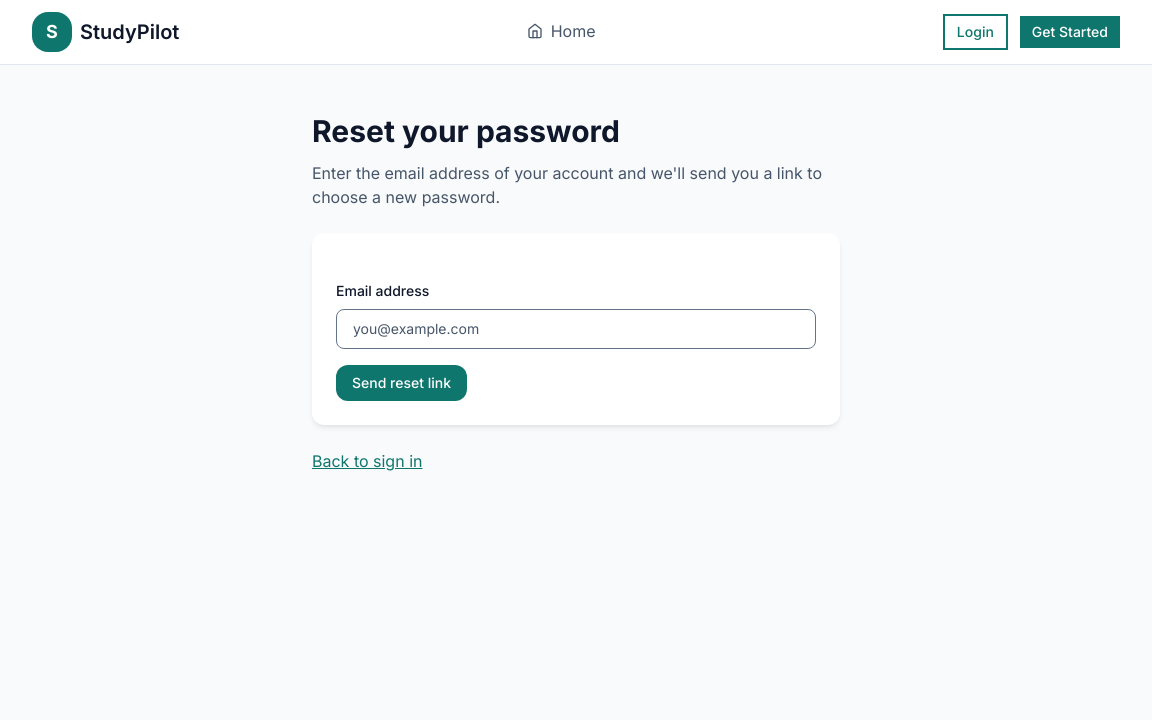
Scenario: ForgotPasswordPage › renders a server 400 field error as an actionable alert and keeps the form
Type "ada@example.com" into the field labelled "Email address" at (576,329), box [336,309,816,349]
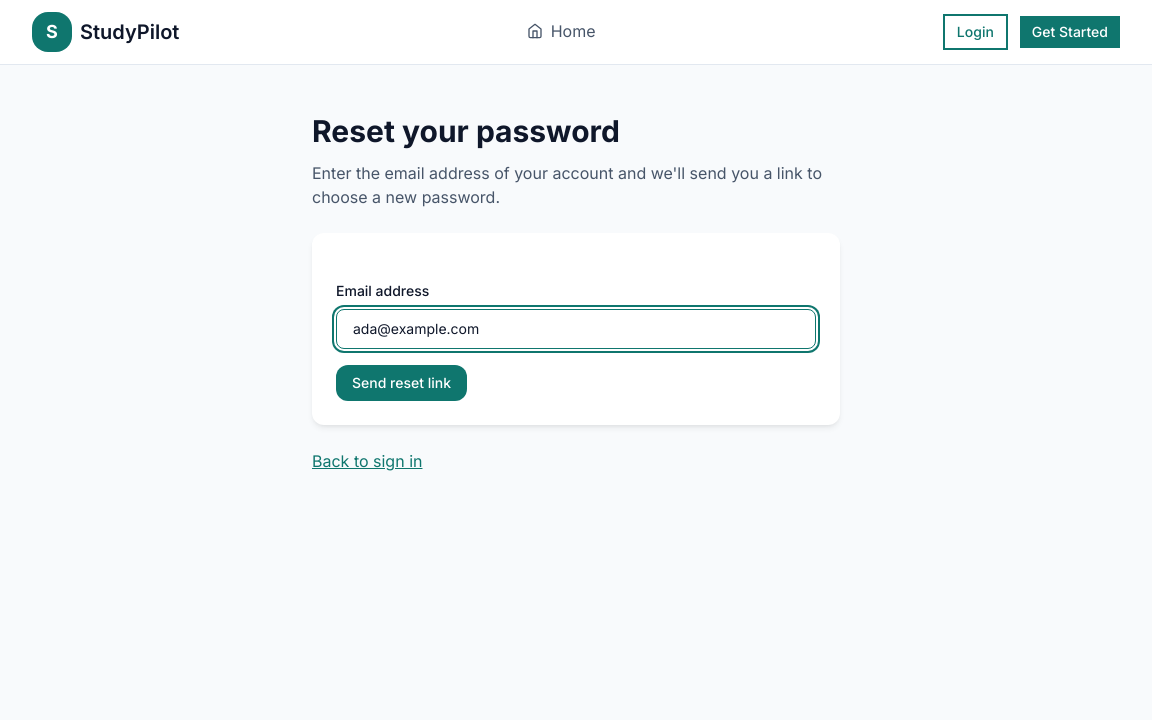
Click the button "Send reset link" at (402,383), box [336,365,467,401]
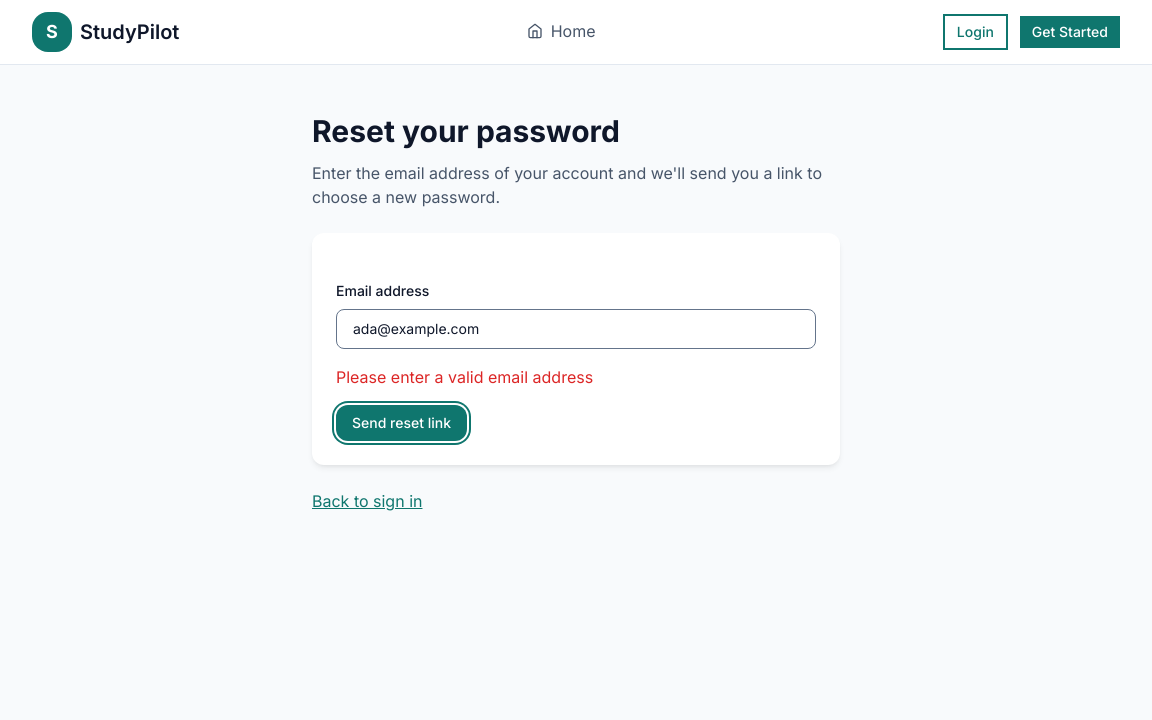
Expected: the field labelled "Email address" is enabled, [336,309,816,349]
Expected: the message reads "Please enter a valid email address", [336,367,593,387]
